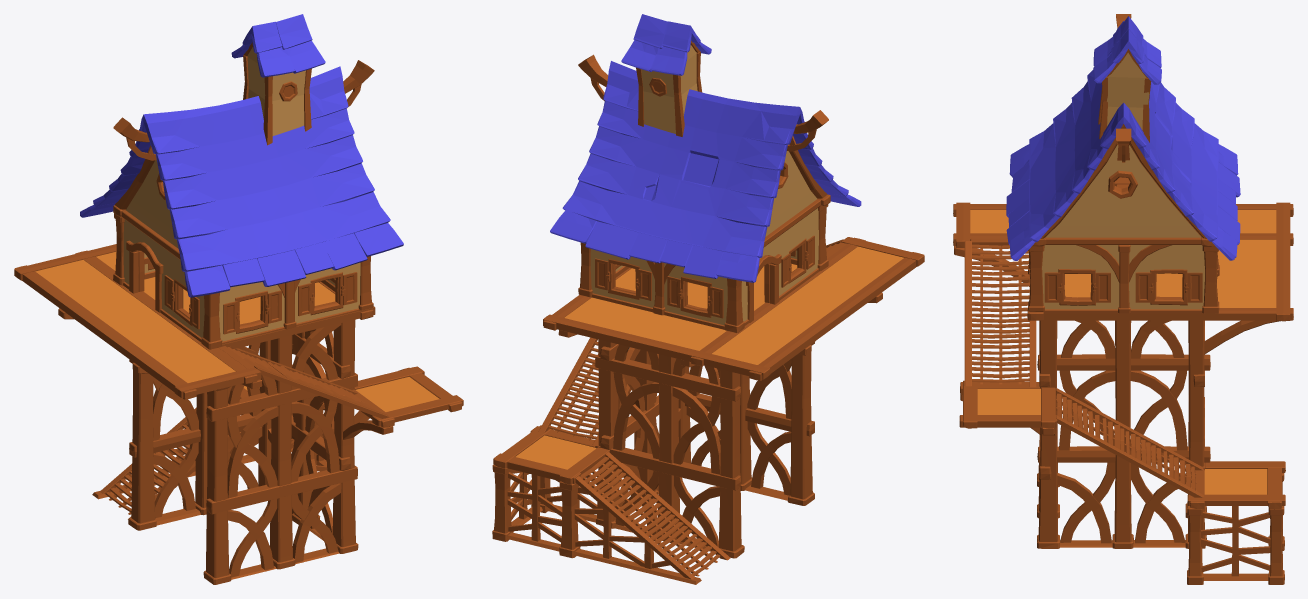
The model's file is tower2.fbx.
3 renders of one model, left to right at view 1: azimuth 30°, elevation 25°; view 2: azimuth 150°, elevation 25°; view 3: azimuth 270°, elevation 25°, orthographic. The views are drawn at different scales.
Parts seen in each view (by area): view 1: SM_BG_FMS_Tower_A.mo, SM_BG_FMS_Tower_A_Roof.mo; view 2: SM_BG_FMS_Tower_A.mo, SM_BG_FMS_Tower_A_Roof.mo; view 3: SM_BG_FMS_Tower_A.mo, SM_BG_FMS_Tower_A_Roof.mo.
Part boxes in pixels (x1=…): SM_BG_FMS_Tower_A.mo: x1=14, y1=42, x2=463, y2=584; SM_BG_FMS_Tower_A_Roof.mo: x1=80, y1=14, x2=403, y2=297; SM_BG_FMS_Tower_A.mo: x1=492, y1=41, x2=924, y2=584; SM_BG_FMS_Tower_A_Roof.mo: x1=550, y1=14, x2=861, y2=282; SM_BG_FMS_Tower_A.mo: x1=953, y1=14, x2=1293, y2=584; SM_BG_FMS_Tower_A_Roof.mo: x1=1006, y1=16, x2=1240, y2=260.
Size of the model in its own units: 1441 by 2442 by 1488.
